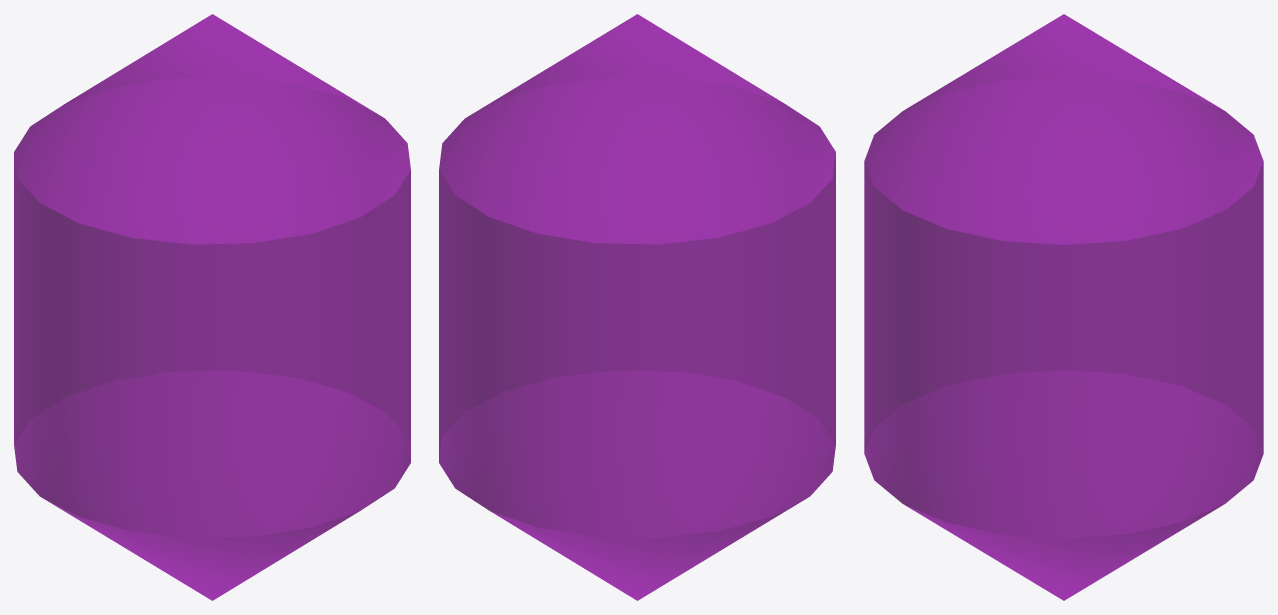
Rendered from Clear Pickup.fbx.
3 views of the same model, side by side, from view 1: azimuth 30°, elevation 25°; view 2: azimuth 150°, elevation 25°; view 3: azimuth 270°, elevation 25° (orthographic).
Visible parts, largest first — view 1: Clear_Pickup; view 2: Clear_Pickup; view 3: Clear_Pickup.
Boxes of the visible parts, x1=… form: Clear_Pickup: x1=14, y1=14, x2=410, y2=600; Clear_Pickup: x1=439, y1=14, x2=835, y2=600; Clear_Pickup: x1=864, y1=14, x2=1263, y2=600.
Size of the model in its own units: 11.45 by 18.59 by 11.45.
